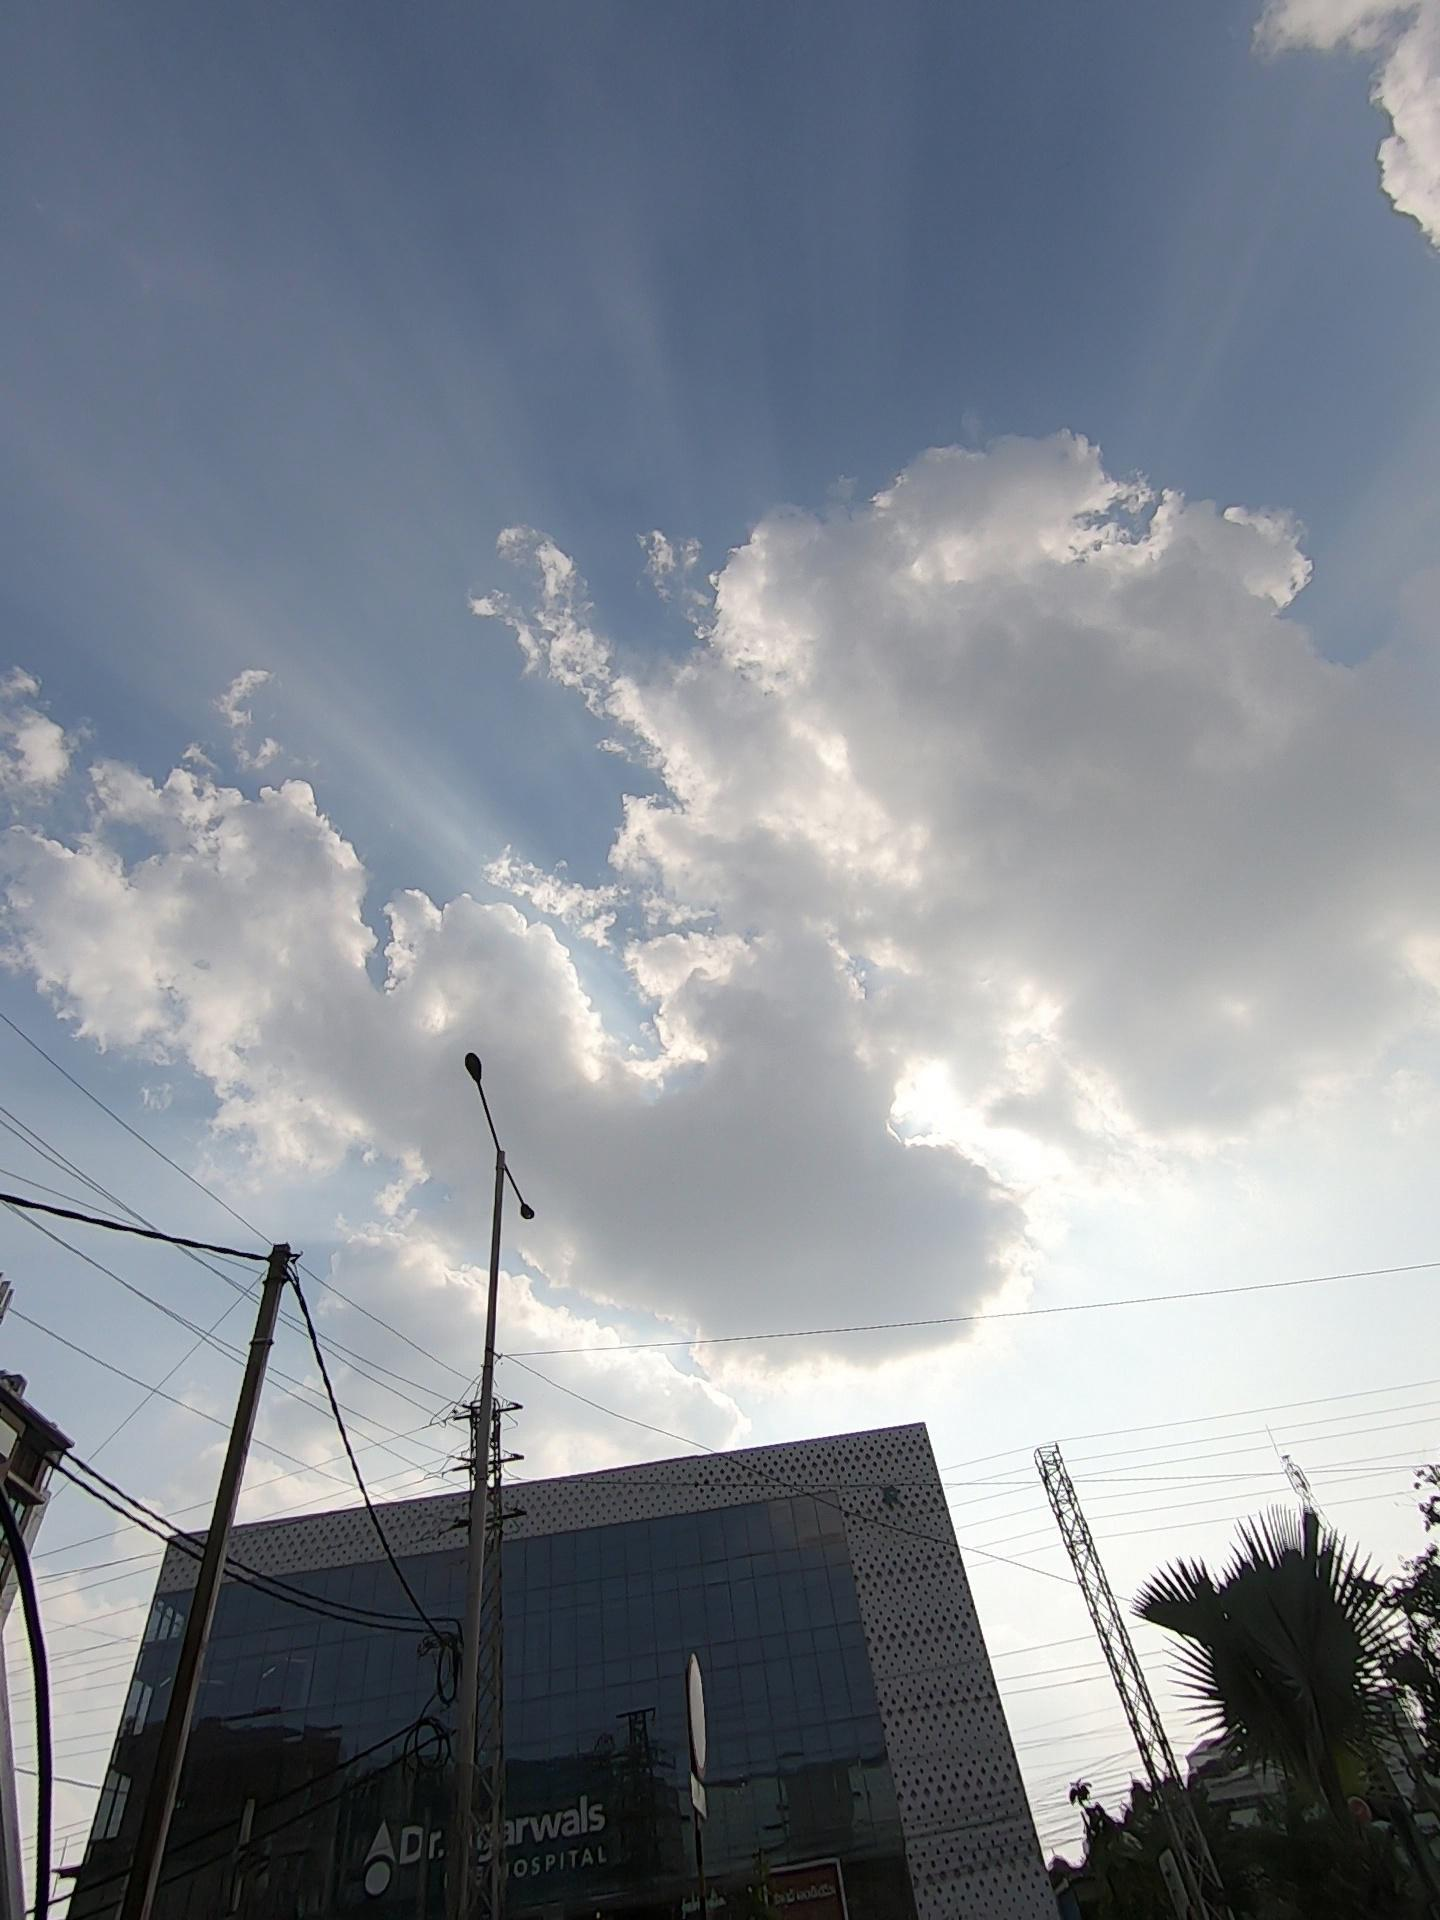off: (410, 1016, 635, 1320)
